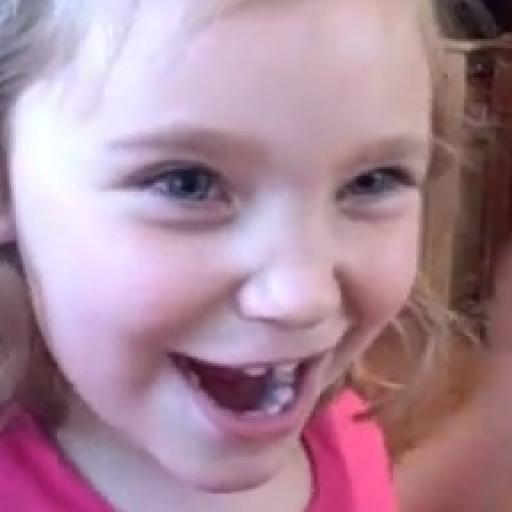Autism: (8, 6, 509, 512)
